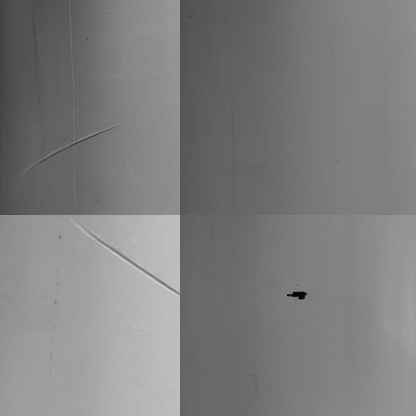kongdong: (285, 289, 310, 302)
sunshang: (70, 213, 183, 299), (17, 126, 121, 168)
